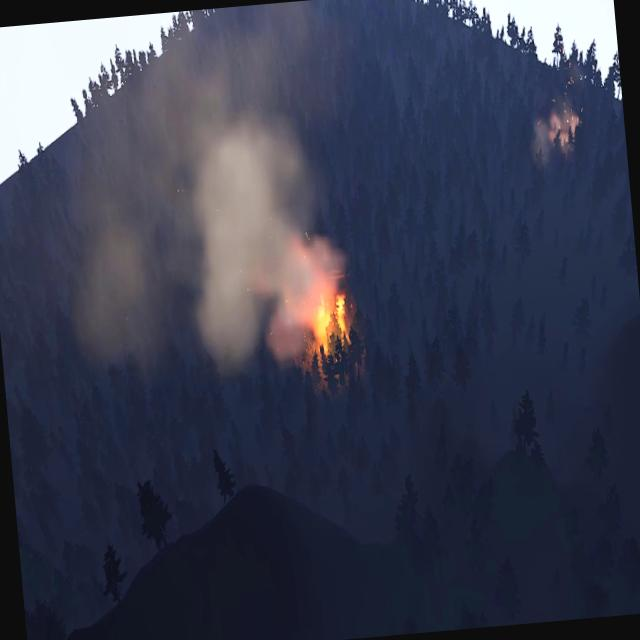fire: (309, 281, 356, 366)
smoke: (37, 0, 343, 383), (525, 52, 588, 162)
